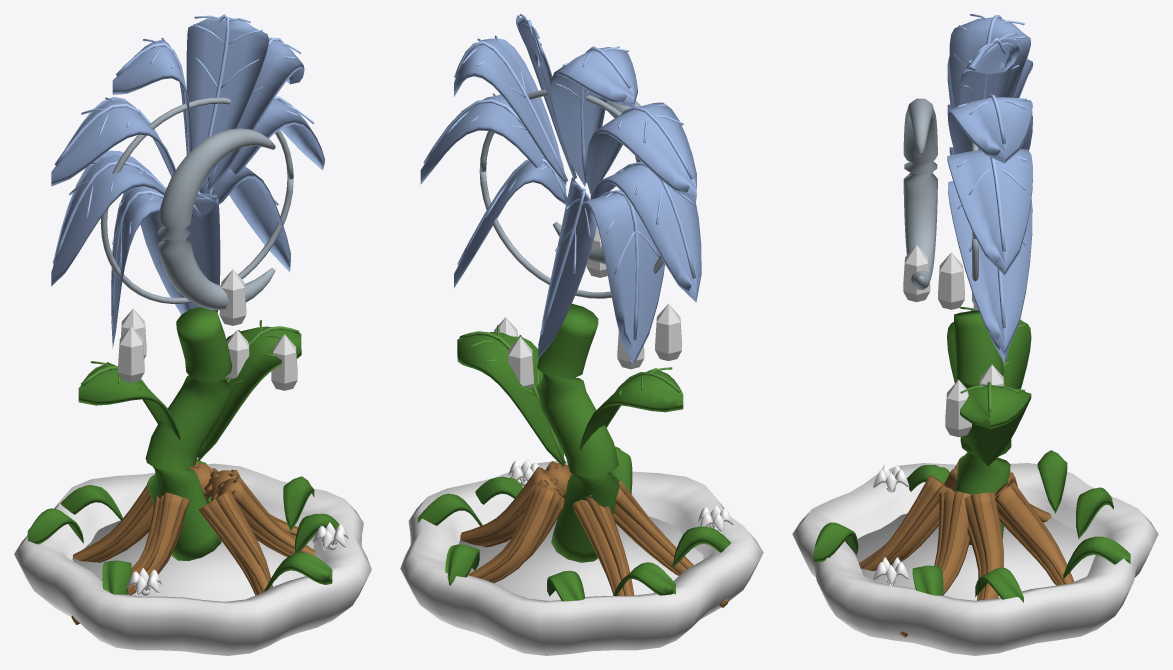
File: moonflower-4.fbx
3 renders of one model, left to right at view 1: azimuth 30°, elevation 25°; view 2: azimuth 150°, elevation 25°; view 3: azimuth 270°, elevation 25°, orthographic.
Parts seen in each view (by area): view 1: Petals_Petal, CarvedBasin, Turret_PortalBamboo, moonflower-4_Bark, SilverCrescent, moonflower-4_PortalBamboo, WaterSurface, Turret_Glow, LunarOrbit, moonflower-4_Petal; view 2: Petals_Petal, CarvedBasin, Turret_PortalBamboo, moonflower-4_Bark, moonflower-4_PortalBamboo, WaterSurface, Turret_Glow, LunarOrbit, moonflower-4_Petal; view 3: CarvedBasin, Petals_Petal, moonflower-4_Bark, Turret_PortalBamboo, moonflower-4_PortalBamboo, WaterSurface, SilverCrescent, Turret_Glow, moonflower-4_Petal.
Part boxes in pixels (box(x1,y1,x2,y2)): Petals_Petal: box(51, 14, 324, 348); CarvedBasin: box(14, 463, 371, 655); Turret_PortalBamboo: box(78, 307, 301, 560); moonflower-4_Bark: box(71, 461, 314, 624); SilverCrescent: box(157, 128, 275, 310); moonflower-4_PortalBamboo: box(27, 459, 339, 594); WaterSurface: box(73, 520, 313, 601); Turret_Glow: box(118, 269, 297, 390); LunarOrbit: box(100, 97, 293, 303); moonflower-4_Petal: box(127, 522, 348, 596); Petals_Petal: box(420, 14, 701, 364); CarvedBasin: box(400, 461, 763, 655); Turret_PortalBamboo: box(457, 303, 683, 562); moonflower-4_Bark: box(460, 461, 728, 607); moonflower-4_PortalBamboo: box(417, 446, 730, 603); WaterSurface: box(459, 516, 703, 600); Turret_Glow: box(494, 225, 681, 387); LunarOrbit: box(479, 90, 663, 298); moonflower-4_Petal: box(508, 458, 733, 533); CarvedBasin: box(792, 463, 1158, 655); Petals_Petal: box(947, 14, 1032, 364); moonflower-4_Bark: box(859, 456, 1074, 637); Turret_PortalBamboo: box(947, 307, 1031, 544); moonflower-4_PortalBamboo: box(813, 450, 1130, 602); WaterSurface: box(851, 513, 1095, 600); SilverCrescent: box(903, 98, 937, 289); Turret_Glow: box(903, 244, 1004, 437); moonflower-4_Petal: box(873, 465, 909, 586).
Size of the model in its own units: 85.55 by 150 by 87.03.
